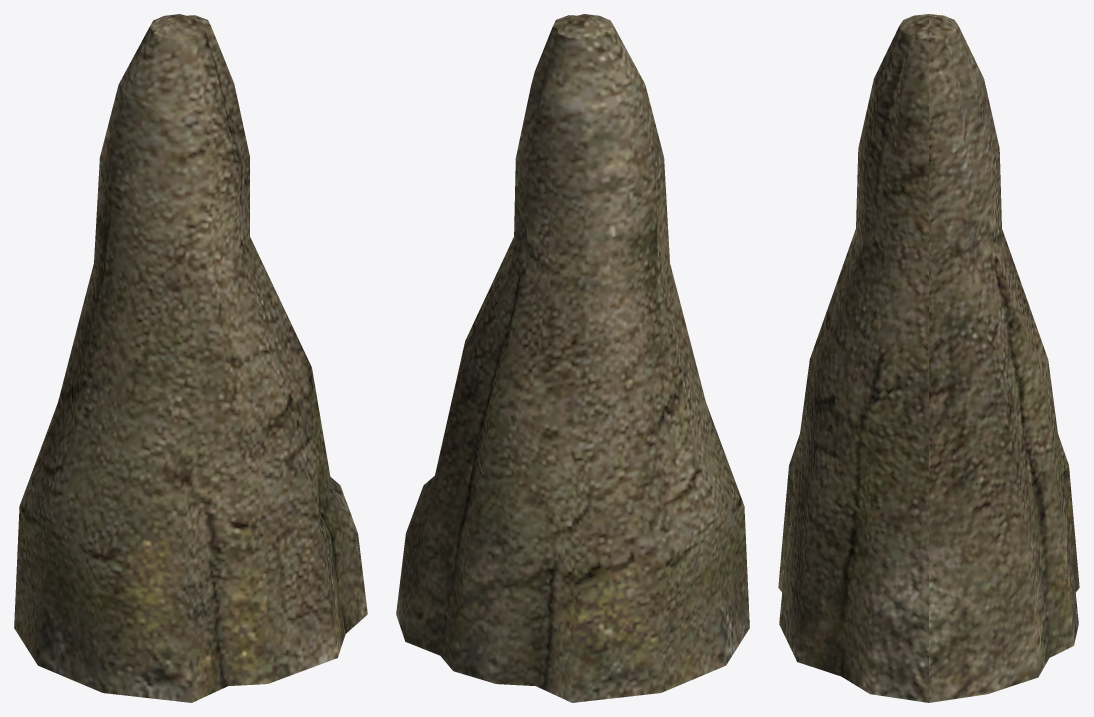
The model's file is anthill_03.fbx.
3 views of the same model, side by side, from view 1: azimuth 30°, elevation 25°; view 2: azimuth 150°, elevation 25°; view 3: azimuth 270°, elevation 25° (orthographic). The views are drawn at different scales.
Parts seen in each view (by area): view 1: objanthill_03; view 2: objanthill_03; view 3: objanthill_03.
Boxes of the visible parts, <box> form: objanthill_03: <box>14,14,367,702</box>; objanthill_03: <box>396,14,749,702</box>; objanthill_03: <box>778,14,1079,702</box>.
Bounding box in the file's own units: 2.9 × 5.34 × 2.42.
